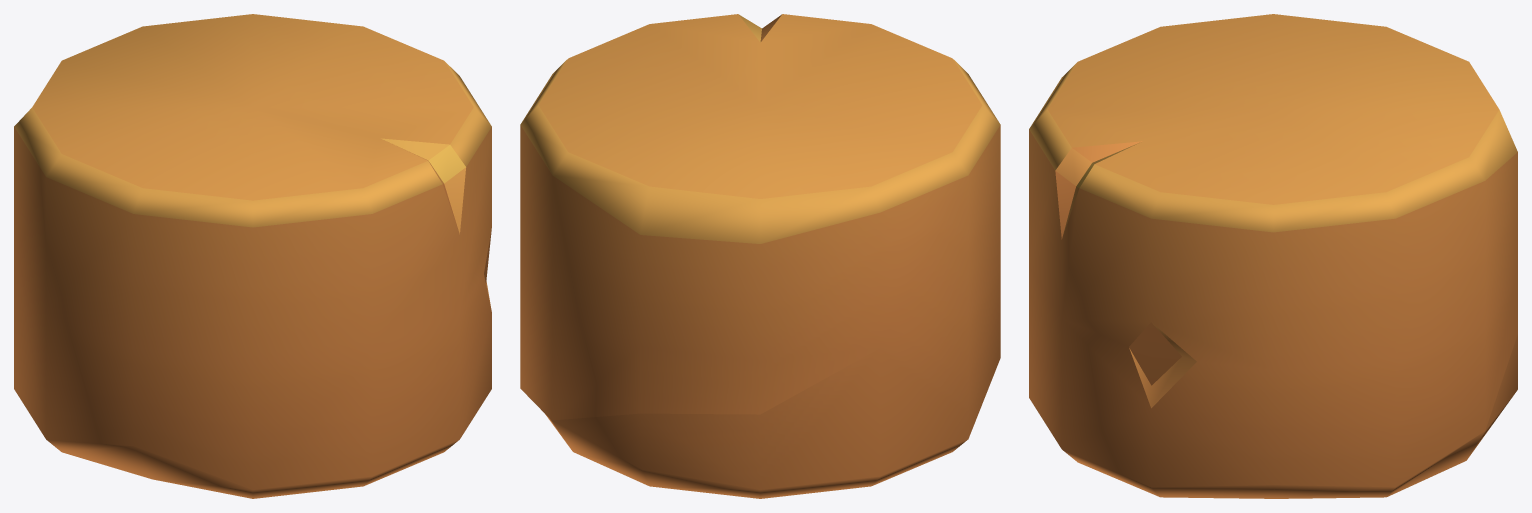
File: pillar_stone1.fbx
3 renders of one model, left to right at view 1: azimuth 30°, elevation 25°; view 2: azimuth 150°, elevation 25°; view 3: azimuth 270°, elevation 25°, orthographic. The views are drawn at different scales.
Parts seen in each view (by area): view 1: pillar_stone1; view 2: pillar_stone1; view 3: pillar_stone1.
Part boxes in pixels (x1,y1,x2,y2): pillar_stone1: [14, 14, 491, 498]; pillar_stone1: [520, 14, 1000, 498]; pillar_stone1: [1029, 14, 1517, 498].
Bounding box in the file's own units: 150 × 103 × 150.
